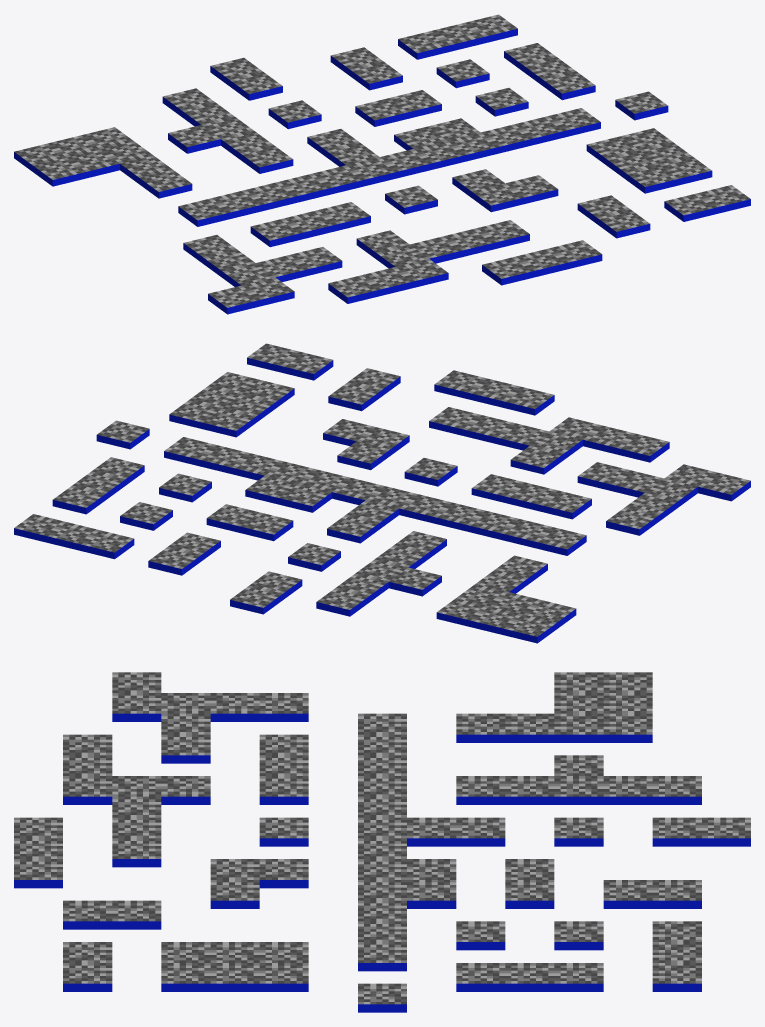
The model's file is st_level_03.FBX.
3 views of the same model, one above another, from view 1: azimuth 30°, elevation 25°; view 2: azimuth 150°, elevation 25°; view 3: azimuth 270°, elevation 25° (orthographic). The views are drawn at different scales.
Visible parts, largest first — view 1: Object001; view 2: Object001; view 3: Object001.
Boxes of the visible parts, x1=… form: Object001: x1=14, y1=14, x2=750, y2=314; Object001: x1=14, y1=343, x2=750, y2=643; Object001: x1=14, y1=672, x2=750, y2=1012.
Bounding box in the file's own units: 2560 × 30 × 2400.
